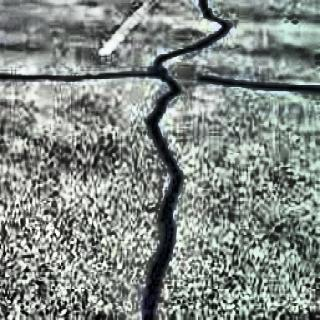crack: (139, 1, 231, 320), (196, 68, 319, 102), (1, 70, 147, 88)
